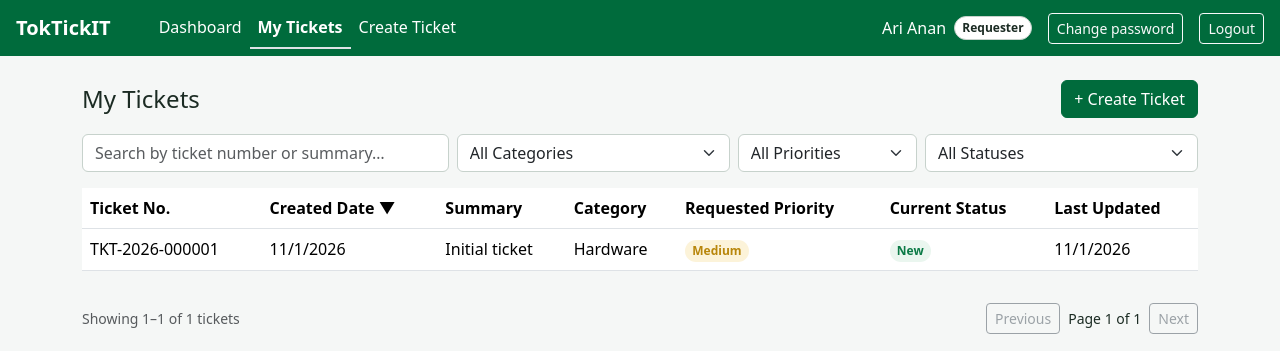
Scenario: My Tickets › ignores a slower, superseded request's result (out-of-order search responses)
The image size is (1280, 351).
In the search field with placeholder "Search by ticket number or summary…": x=265, y=153 [82,134,449,172], type "slow"
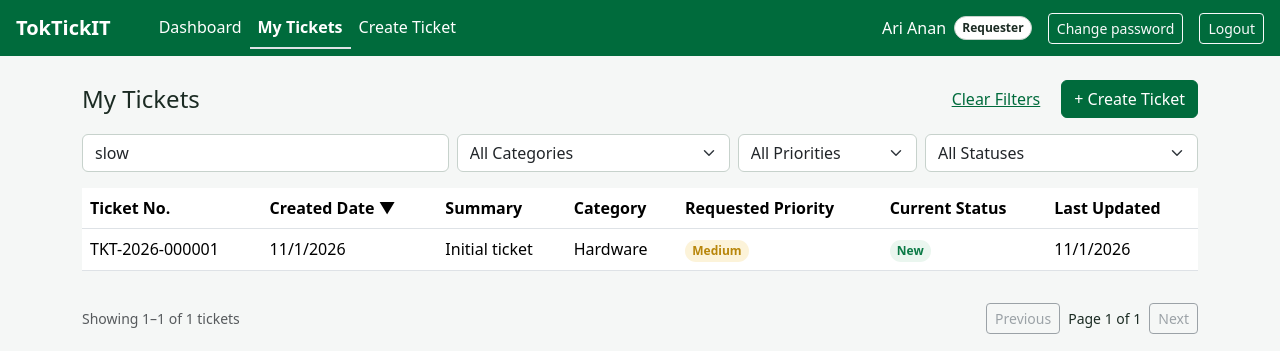
Replace the text in the search field with placeholder "Search by ticket number or summary…" with "fast": x=265, y=153 [82,134,449,172]
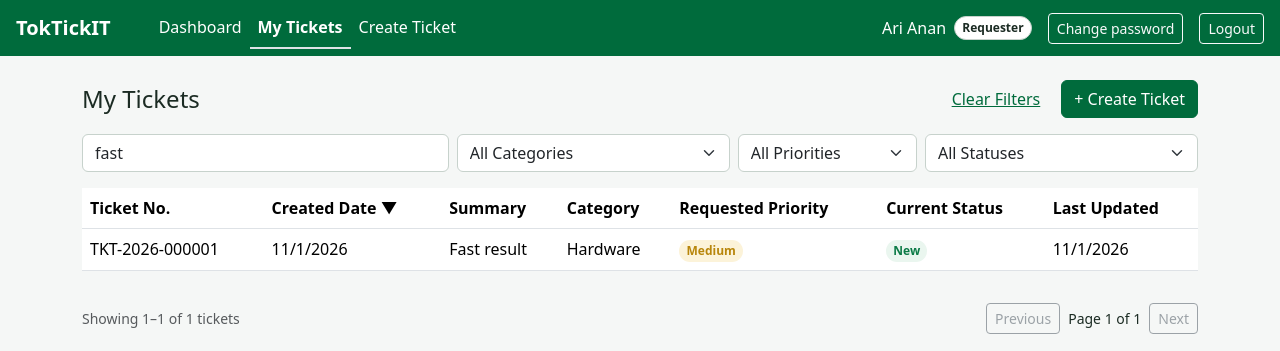
Check: the text "Fast result" is shown, box [441,228,559,270]
